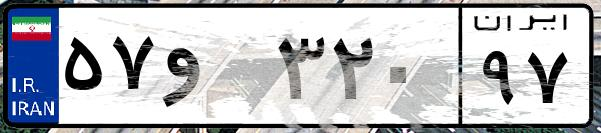0: (385, 28, 445, 110)
2: (330, 28, 385, 110)
3: (270, 28, 330, 110)
5: (57, 26, 110, 100)
7: (525, 38, 570, 115), (110, 28, 158, 98)
9: (475, 38, 525, 113)
و: (158, 20, 270, 120)
